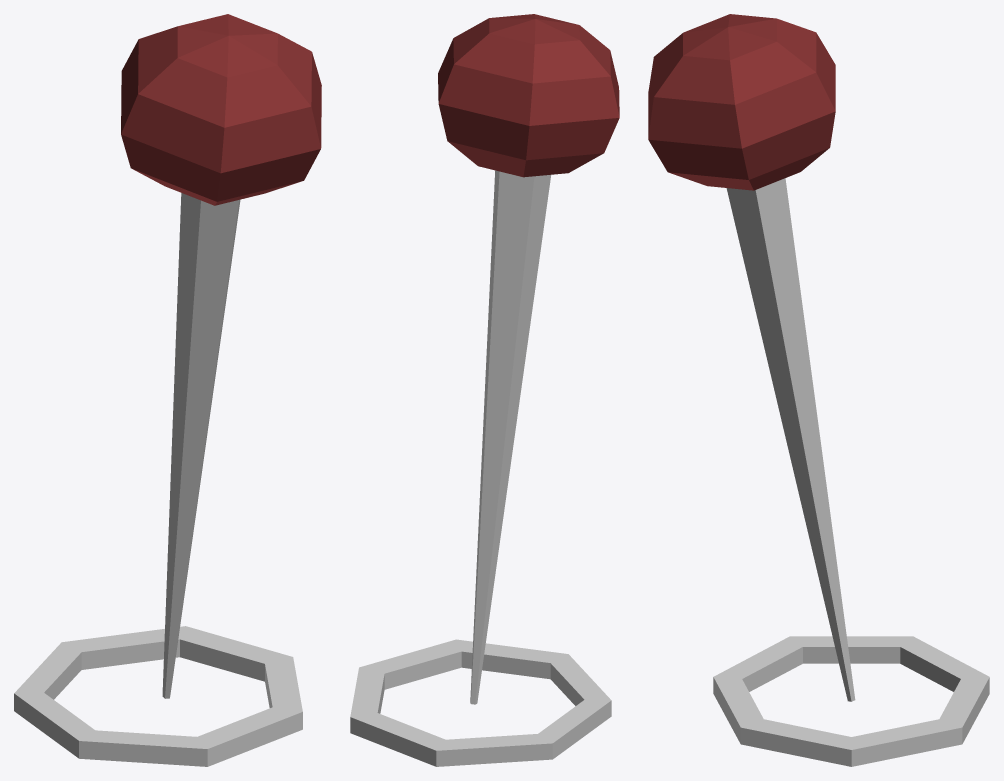
The model's file is pin.fbx.
The picture shows the model from 3 angles, left to right: view 1: azimuth 30°, elevation 25°; view 2: azimuth 150°, elevation 25°; view 3: azimuth 270°, elevation 25°; orthographic projection. The views are drawn at different scales.
Parts seen in each view (by area): view 1: pin; view 2: pin; view 3: pin.
Part boxes in pixels (<box>): pin: <box>14,14,321,766</box>; pin: <box>350,14,619,766</box>; pin: <box>648,14,989,766</box>.
Bounding box in the file's own units: 6.69 × 18.61 × 8.47.
